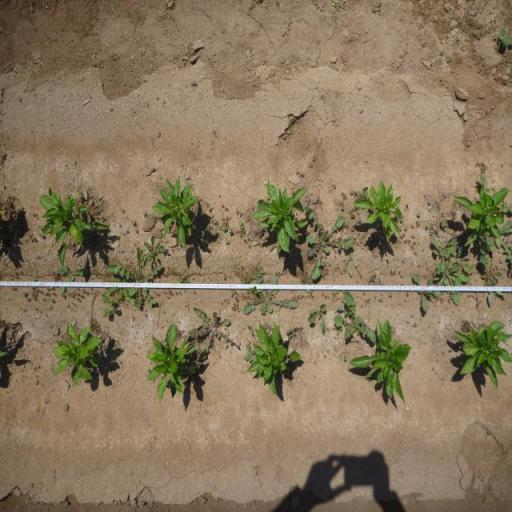plant: (452, 318, 512, 392), (146, 322, 197, 404), (50, 318, 104, 388), (43, 198, 96, 262), (374, 318, 412, 405), (155, 176, 199, 245), (264, 182, 306, 254), (254, 320, 292, 396), (455, 186, 506, 240), (368, 180, 402, 245)
weed: (305, 206, 352, 280), (432, 235, 474, 303), (115, 248, 161, 309), (194, 306, 240, 362), (335, 291, 375, 347), (250, 275, 300, 317), (411, 272, 438, 312), (480, 266, 505, 309), (479, 238, 512, 270), (58, 265, 88, 294), (143, 235, 167, 266), (308, 302, 328, 334), (106, 278, 130, 302), (101, 294, 114, 319), (499, 28, 512, 48), (344, 252, 353, 277), (244, 344, 256, 362), (306, 196, 324, 208), (30, 286, 44, 300), (354, 186, 368, 200), (474, 160, 488, 173), (236, 220, 246, 238), (252, 266, 266, 278), (366, 272, 378, 286), (220, 215, 230, 230), (175, 323, 182, 341), (331, 289, 341, 301), (440, 219, 449, 232), (23, 232, 33, 243), (179, 274, 190, 284), (430, 225, 440, 236), (288, 330, 298, 340), (350, 207, 358, 219), (334, 326, 343, 336), (247, 324, 254, 336), (450, 209, 457, 221), (200, 238, 208, 248), (256, 230, 264, 240), (240, 276, 250, 284), (250, 286, 260, 294), (68, 292, 80, 298), (300, 278, 312, 284), (231, 303, 239, 311), (166, 289, 173, 298), (338, 201, 345, 210), (46, 286, 56, 292), (342, 191, 348, 201), (32, 212, 39, 220), (122, 229, 130, 236), (130, 218, 137, 226), (205, 223, 212, 231), (434, 198, 441, 206), (427, 278, 433, 287), (77, 191, 82, 201), (235, 208, 242, 215), (38, 232, 44, 240), (231, 289, 237, 297), (234, 295, 240, 303), (404, 202, 410, 210), (209, 219, 218, 224), (95, 208, 102, 214), (52, 291, 58, 298), (142, 210, 149, 216), (390, 269, 396, 276), (342, 223, 348, 230), (403, 239, 411, 244), (22, 291, 28, 297), (12, 286, 18, 292), (80, 294, 86, 300), (60, 292, 66, 298), (224, 238, 230, 244), (258, 225, 264, 231), (324, 294, 330, 300), (356, 218, 362, 224), (412, 322, 418, 328), (442, 192, 448, 198), (45, 292, 52, 297), (416, 220, 421, 227), (310, 290, 314, 298), (32, 236, 37, 242), (38, 224, 43, 230), (416, 212, 422, 217), (410, 234, 416, 239), (400, 233, 406, 238), (308, 162, 314, 167), (214, 228, 218, 235), (350, 190, 357, 194), (117, 221, 122, 226), (27, 297, 31, 303), (205, 201, 209, 207), (210, 212, 214, 218), (229, 227, 233, 233), (178, 290, 182, 296), (326, 348, 330, 354), (377, 275, 381, 281), (386, 258, 390, 264), (351, 226, 355, 232), (425, 222, 429, 228), (16, 325, 20, 331), (336, 264, 340, 270), (401, 214, 404, 221), (49, 298, 54, 302), (152, 213, 156, 218), (208, 206, 212, 211), (410, 223, 414, 228), (378, 298, 383, 302), (411, 244, 414, 250), (398, 269, 401, 275), (82, 288, 86, 292), (96, 196, 100, 200), (134, 228, 138, 232), (248, 244, 252, 248), (344, 355, 346, 363), (333, 184, 337, 188), (192, 290, 196, 294), (220, 301, 224, 305), (389, 293, 393, 297), (406, 290, 408, 298), (400, 274, 404, 278), (313, 155, 316, 160), (414, 250, 417, 255), (225, 207, 228, 211), (175, 291, 178, 295), (227, 301, 230, 305), (184, 304, 187, 308), (156, 293, 160, 296), (428, 200, 431, 204), (244, 240, 247, 243), (162, 310, 165, 313), (121, 208, 125, 210), (248, 237, 250, 241), (324, 354, 326, 358), (224, 298, 226, 302), (224, 276, 226, 280), (329, 262, 331, 266), (322, 292, 324, 296), (418, 264, 420, 268), (187, 303, 189, 306), (144, 313, 146, 316), (222, 204, 224, 206), (335, 268, 336, 272)
